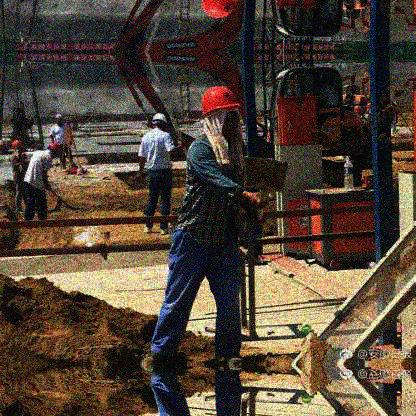helmet: (199, 85, 241, 147), (148, 112, 167, 134), (45, 140, 64, 159), (9, 138, 24, 154), (54, 112, 65, 125)
